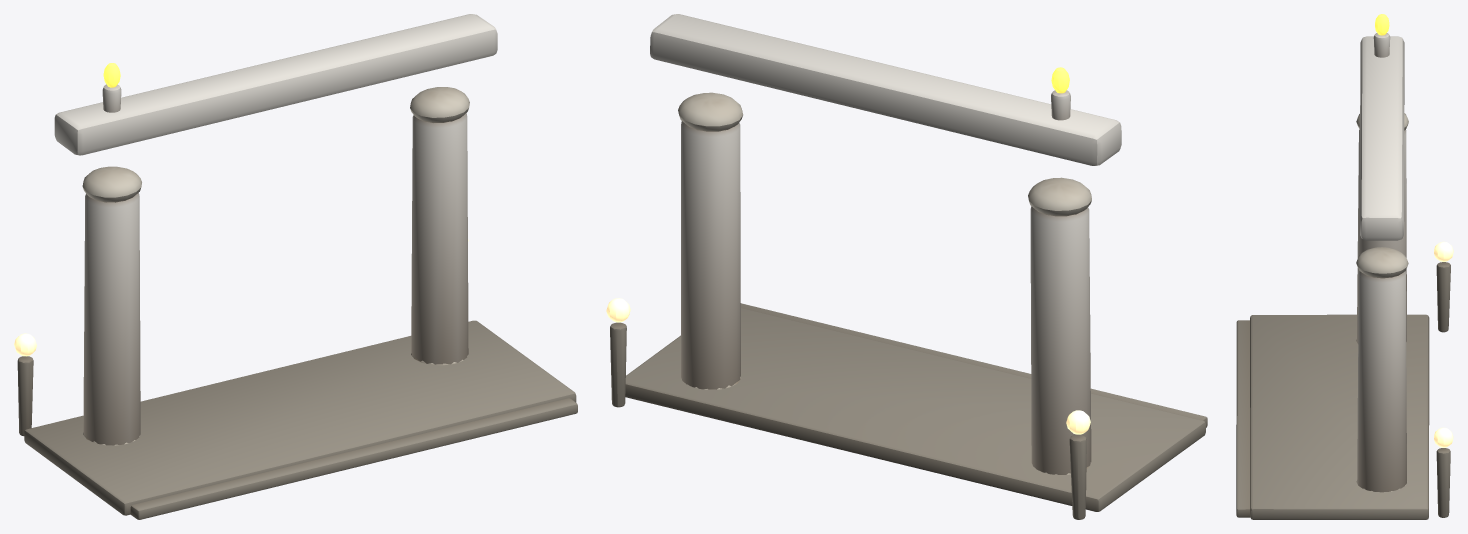
The picture shows the model from 3 angles, left to right: view 1: azimuth 30°, elevation 25°; view 2: azimuth 150°, elevation 25°; view 3: azimuth 270°, elevation 25°; orthographic projection. The views are drawn at different scales.
Parts seen in each view (by area): view 1: gate_2b2e66e2; view 2: gate_2b2e66e2; view 3: gate_2b2e66e2.
Boxes of the visible parts, x1,y1,x2,y2 form: gate_2b2e66e2: [14, 14, 577, 519]; gate_2b2e66e2: [606, 14, 1207, 519]; gate_2b2e66e2: [1236, 14, 1453, 519].
Bounding box in the file's own units: 5.42 × 4.4 × 2.55.
